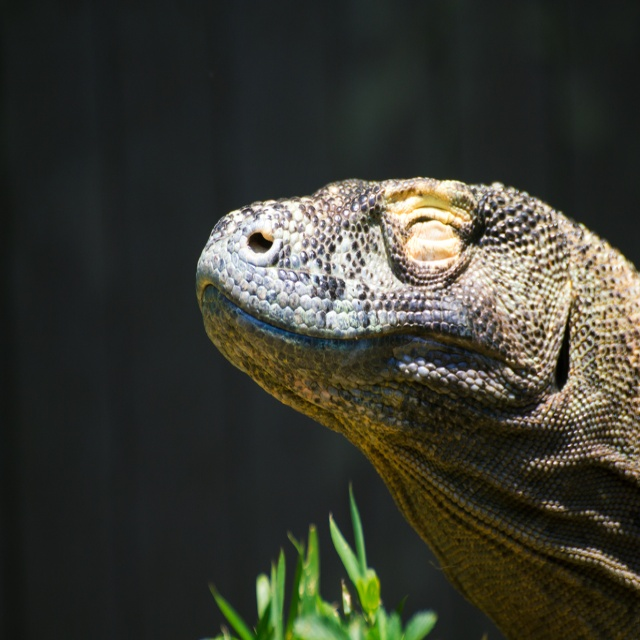Lizard: (198, 171, 640, 639)
